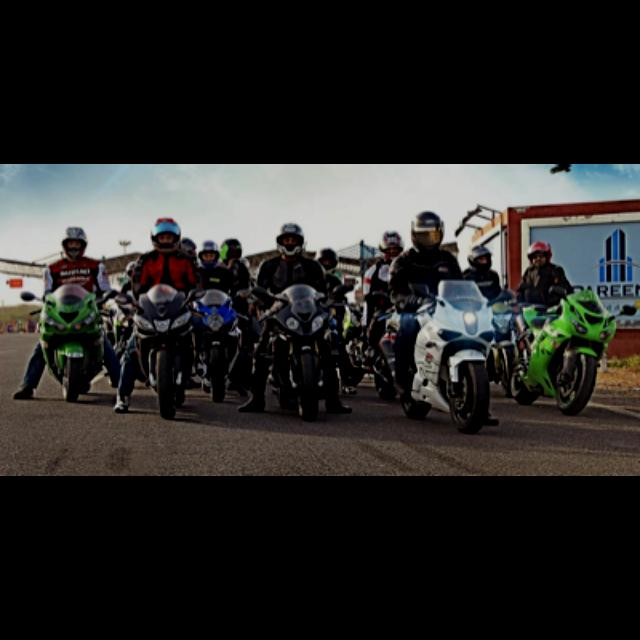With Helmet: (408, 209, 444, 251), (148, 213, 182, 250), (273, 221, 307, 255), (58, 225, 90, 259), (523, 240, 555, 266), (466, 242, 494, 270), (198, 239, 222, 271)
